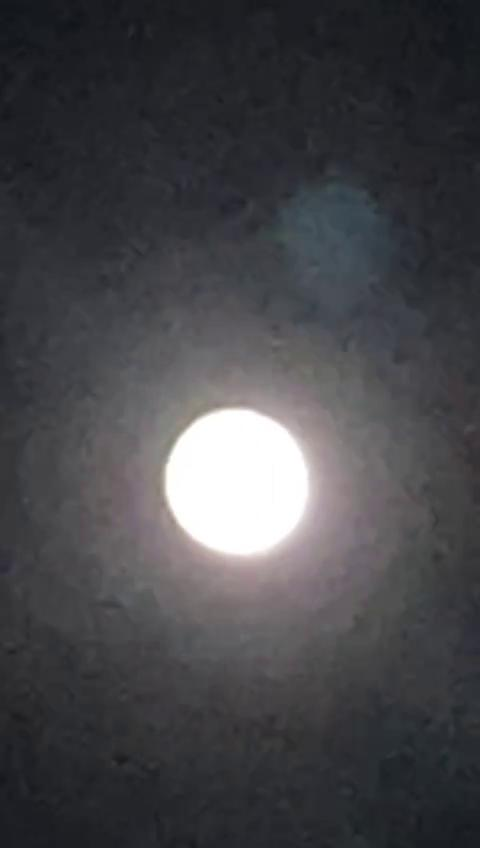moon: (140, 376, 312, 566)
